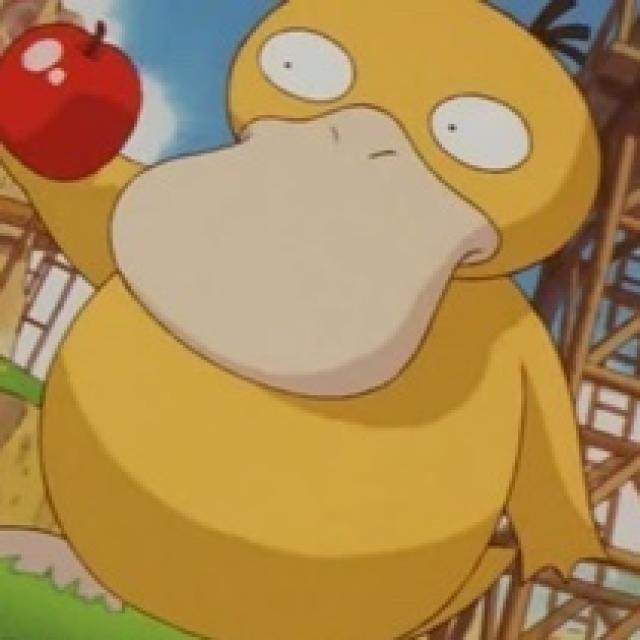Psyduck: (92, 6, 588, 629)
